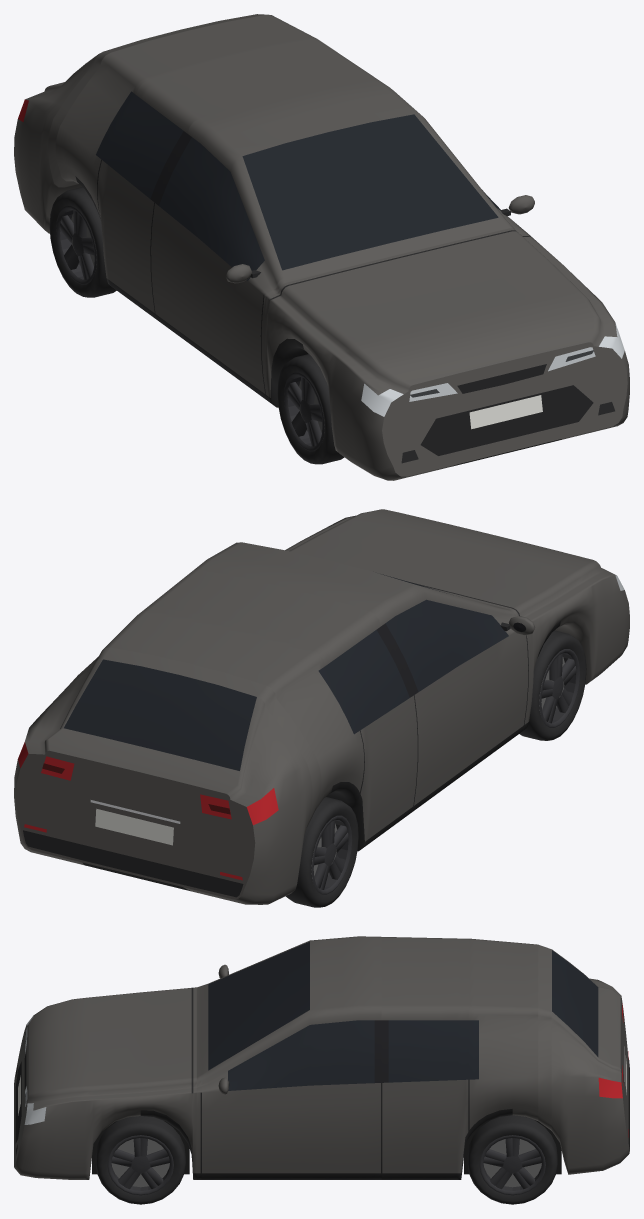
The model's file is traffic-hatchback.glb.
The picture shows the model from 3 angles, top to bottom: view 1: azimuth 30°, elevation 25°; view 2: azimuth 150°, elevation 25°; view 3: azimuth 270°, elevation 25°; orthographic projection. The views are drawn at different scales.
Parts seen in each view (by area): view 1: body_paint, body_details, wheel_rr, wheel_fr; view 2: body_paint, body_details, wheel_rr, wheel_fr; view 3: body_paint, body_details, wheel_rl, wheel_fl.
Boxes of the visible parts, bbox=[...] form: body_paint: bbox=[14, 14, 629, 480]; body_details: bbox=[18, 91, 624, 466]; wheel_rr: bbox=[49, 187, 116, 297]; wheel_fr: bbox=[277, 354, 344, 464]; body_paint: bbox=[14, 509, 629, 904]; body_details: bbox=[18, 574, 624, 897]; wheel_rr: bbox=[285, 797, 358, 907]; wheel_fr: bbox=[519, 630, 586, 740]; body_paint: bbox=[14, 936, 629, 1179]; body_details: bbox=[15, 941, 629, 1179]; wheel_rl: bbox=[467, 1115, 557, 1204]; wheel_fl: bbox=[95, 1116, 185, 1204].
Size of the model in its own units: 2.07 by 1.46 by 4.37.
Materials: 2 (1 with a texture image).
